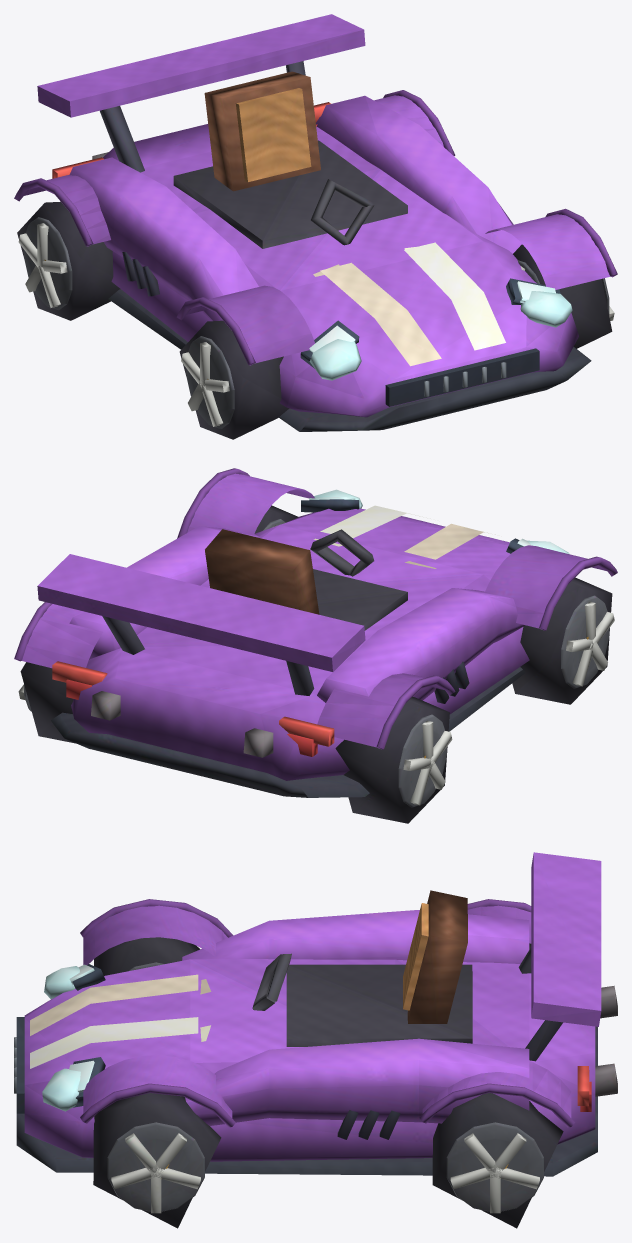
The model's file is kart_violet.glb.
3 views of the same model, one above another, from view 1: azimuth 30°, elevation 25°; view 2: azimuth 150°, elevation 25°; view 3: azimuth 270°, elevation 25° (orthographic). The views are drawn at different scales.
Parts seen in each view (by area): view 1: Body, Wheel_L_Front, Wheel_L_Back, Wheel_R_Front; view 2: Body, Wheel_L_Back, Wheel_L_Front, Wheel_R_Back, Wheel_R_Front; view 3: Body, Wheel_R_Front, Wheel_R_Back, Wheel_L_Front.
Boxes of the visible parts, box(x1,y1,x2,y2) form: Body: box(14, 14, 617, 431); Wheel_L_Front: box(179, 320, 289, 439); Wheel_L_Back: box(17, 201, 120, 320); Wheel_R_Front: box(513, 244, 614, 348); Body: box(14, 468, 617, 797); Wheel_L_Back: box(335, 697, 452, 823); Wheel_L_Front: box(512, 577, 614, 704); Wheel_R_Back: box(18, 662, 75, 743); Wheel_R_Front: box(254, 505, 298, 533); Body: box(14, 852, 617, 1176); Wheel_R_Front: box(93, 1093, 221, 1228); Wheel_R_Back: box(432, 1093, 563, 1228); Wheel_L_Front: box(94, 937, 200, 975).
Size of the model in its own units: 1.79 by 0.9276 by 2.3.
Materials: 1 (1 with a texture image).
